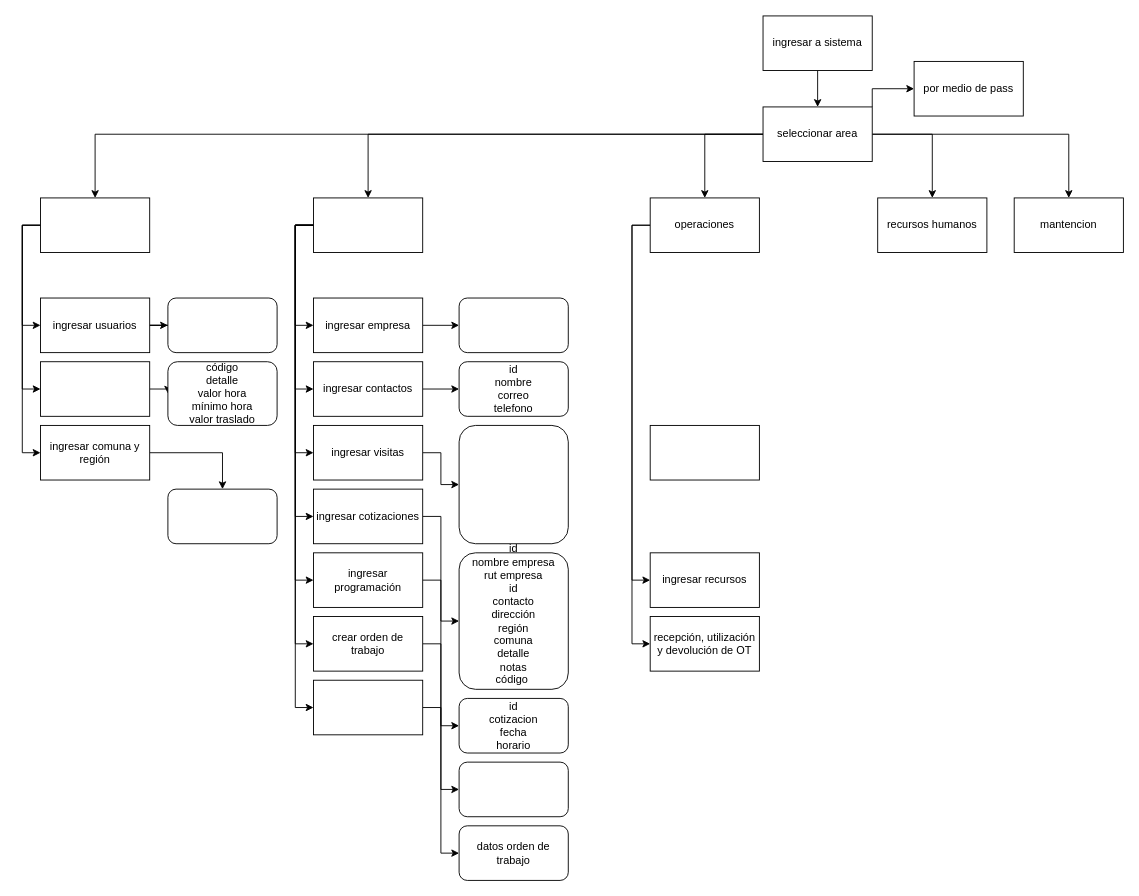
This 1139x896 diagram has some shape labels left out. Here are the shapes that lost their labels. From the top down, the centre of each, then its label:
the point at 95,225: administrador
the point at 368,225: comercial
the point at 222,325: nombre clave
the point at 513,325: id rut nombre
the point at 95,388: código y detalle equipos
the point at 704,452: ingresar recursos y detalle
the point at 513,484: id nombre empresa rut empresa id contacto dirección región comuna detalle
the point at 222,516: región comuna
the point at 368,707: ingresar horas personal, valor del serivicio
the point at 513,789: datos programación
